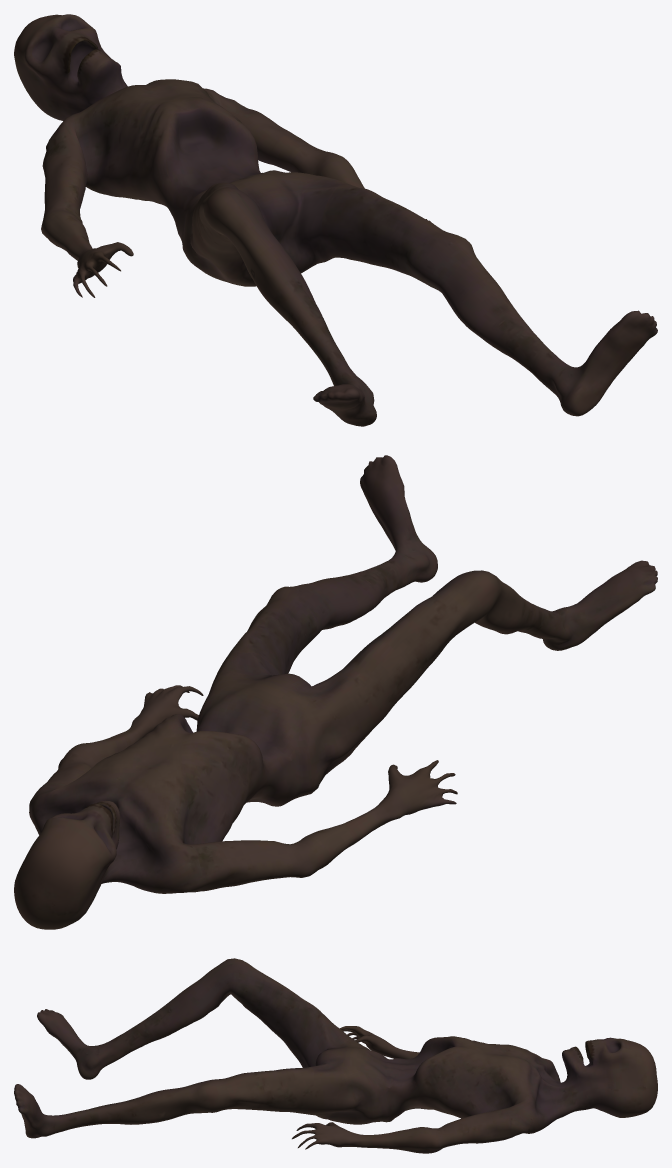
Rendered from z3-dead1.glb.
3 views of the same model, one above another, from view 1: azimuth 30°, elevation 25°; view 2: azimuth 150°, elevation 25°; view 3: azimuth 270°, elevation 25° (orthographic). The views are drawn at different scales.
Parts seen in each view (by area): view 1: Object_7; view 2: Object_7; view 3: Object_7.
Part boxes in pixels (x1,y1,x2,y2): Object_7: [14, 14, 657, 426]; Object_7: [14, 455, 657, 929]; Object_7: [14, 958, 657, 1153].
Size of the model in its own units: 0.8108 by 0.405 by 1.98.
Materials: 1 (1 with a texture image).
